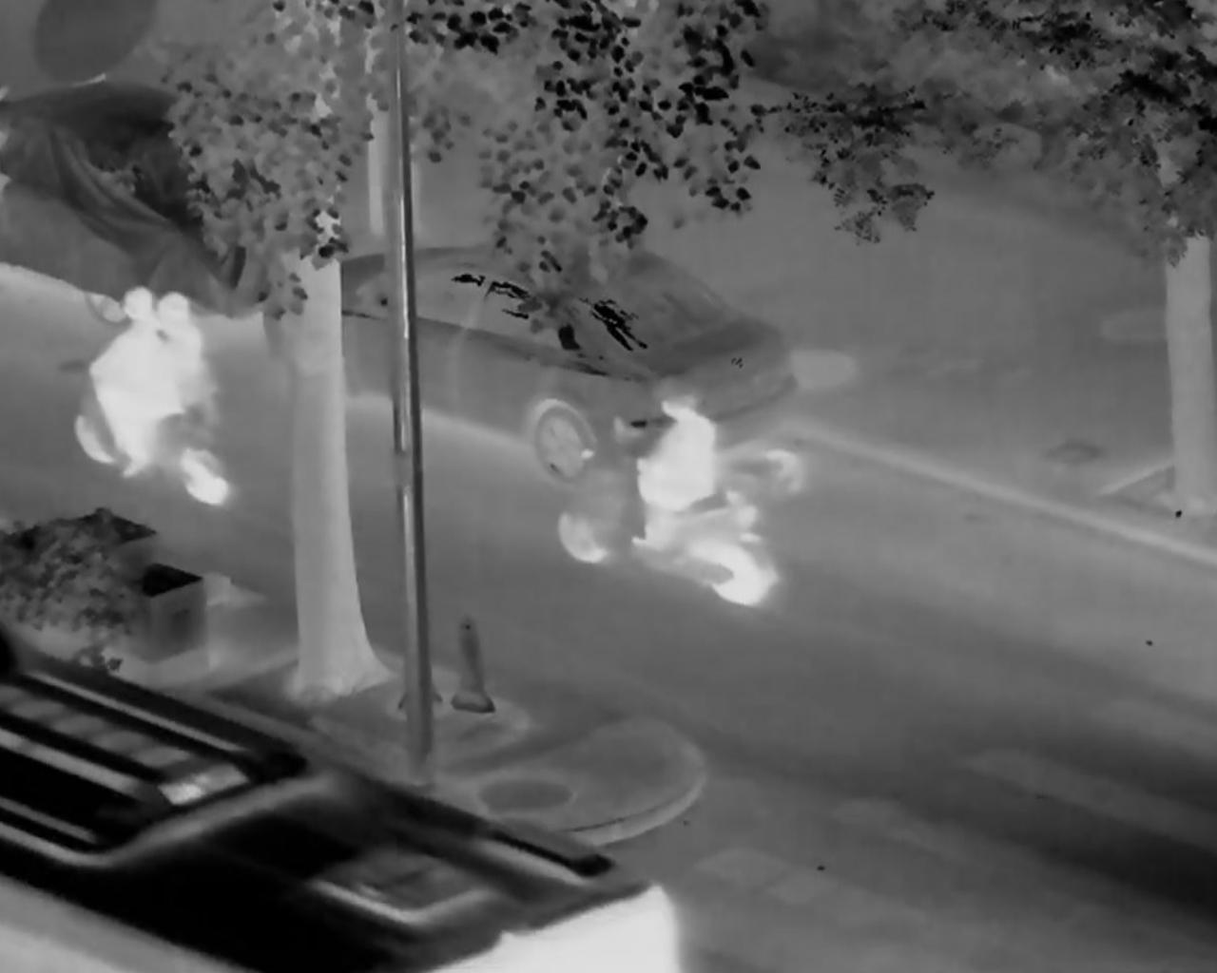person: (85, 286, 164, 468), (631, 385, 716, 538), (131, 295, 204, 435)
